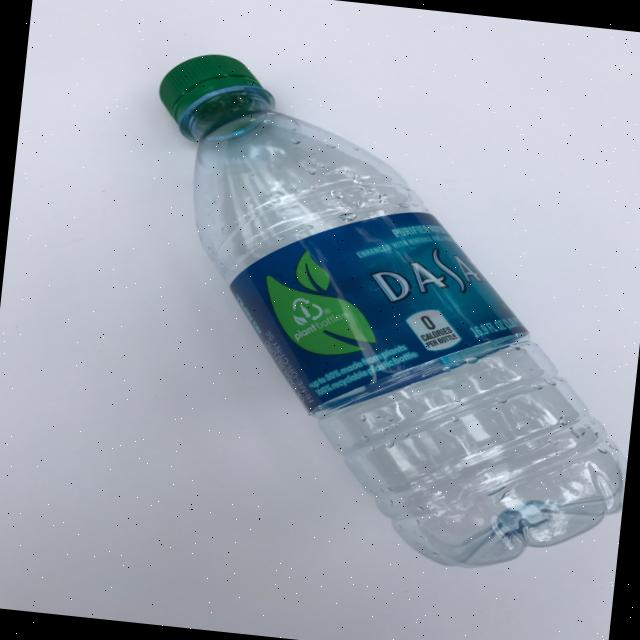plastic: (111, 47, 640, 583)
